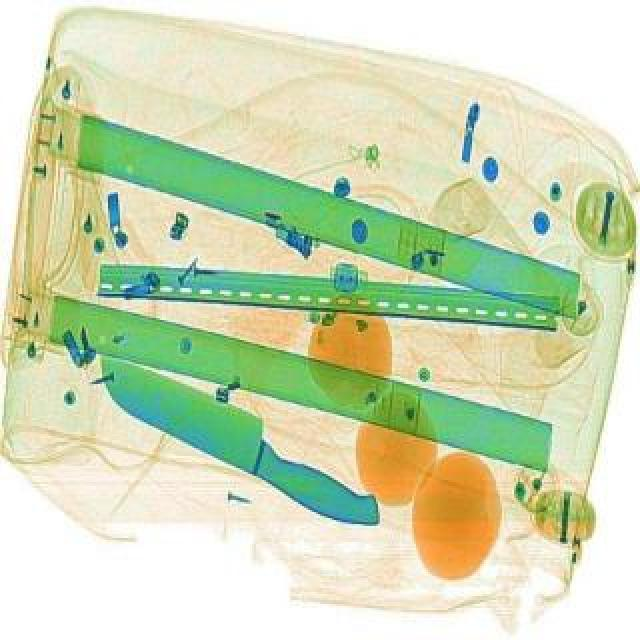knife: (78, 338, 400, 536)
